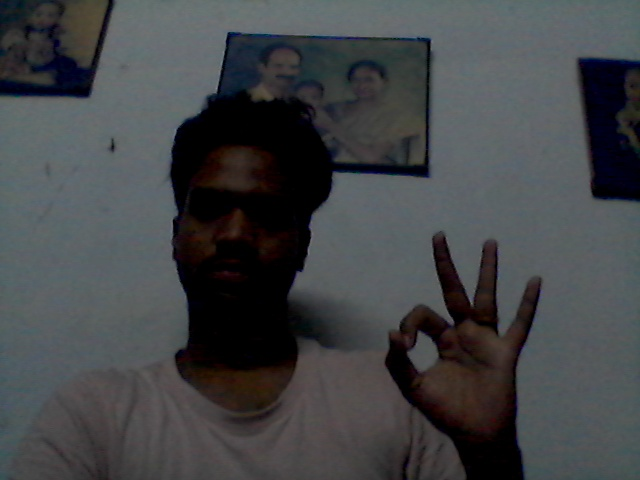Not Ok: (383, 225, 560, 480)
